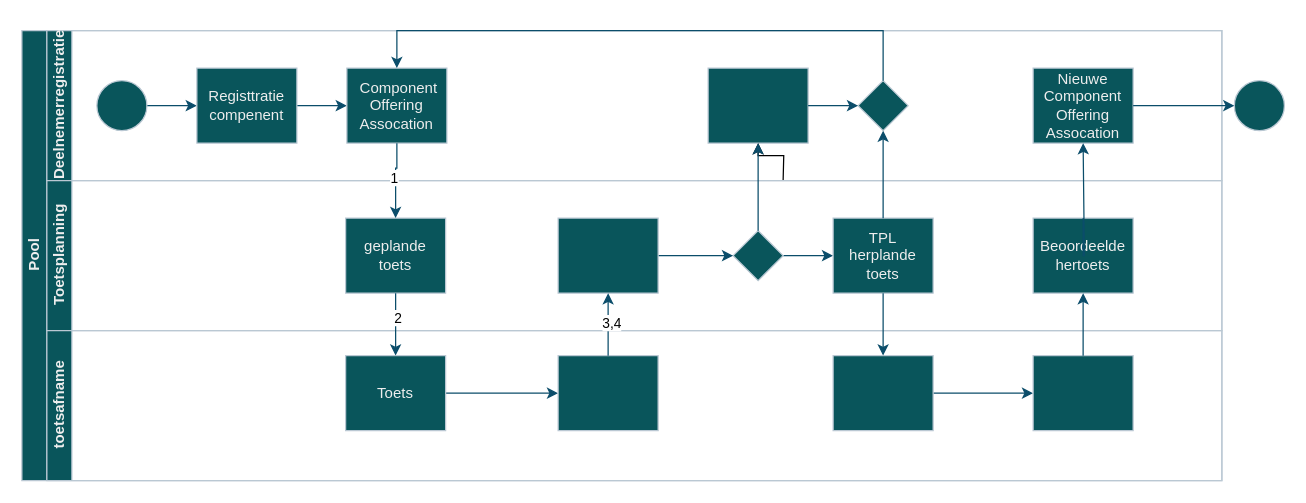
The diagram is 1306 pixels wide and 503 high, and some of its shapes have lost their labels. Each missing label, with the centre of its shape:
Afgeronde hertoets: the point at 1082,392
Afgeronde toets: the point at 607,392
Beoordeelde Component Offering Assocation: the point at 757,105
Beoordeelde toets: the point at 607,255
hertoets: the point at 882,392
